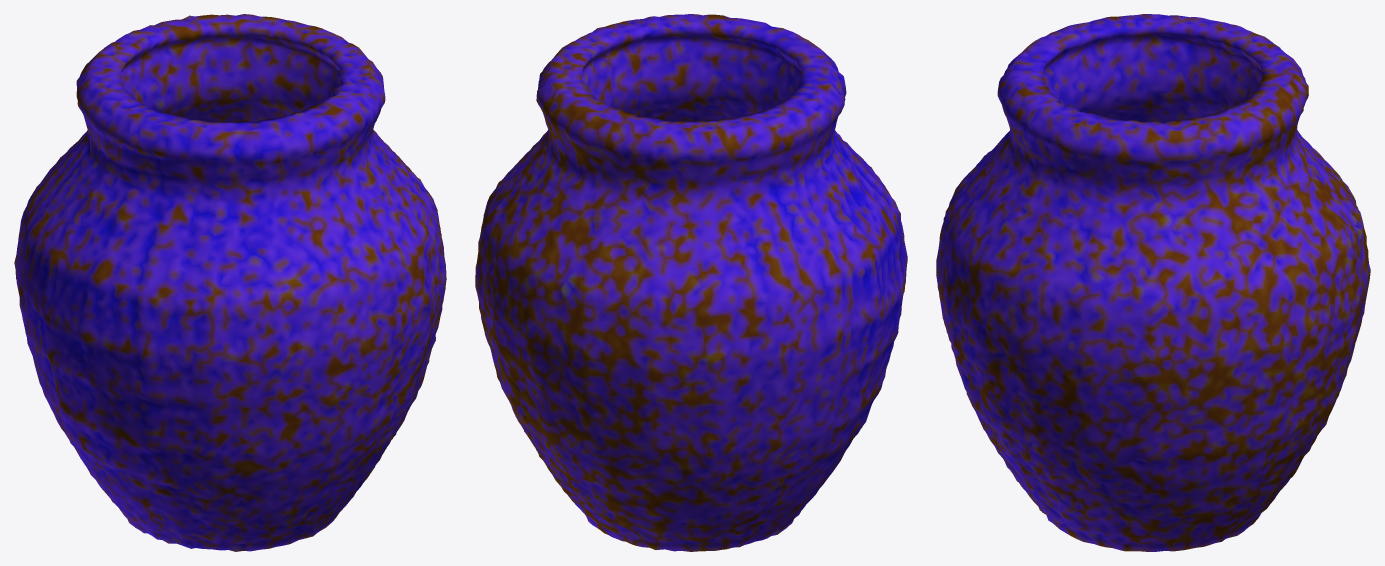
The model's file is vase_500_iters.obj.
3 views of the same model, side by side, from view 1: azimuth 30°, elevation 25°; view 2: azimuth 150°, elevation 25°; view 3: azimuth 270°, elevation 25° (orthographic).
Size of the model in its own units: 1.59 by 1.76 by 1.59.
